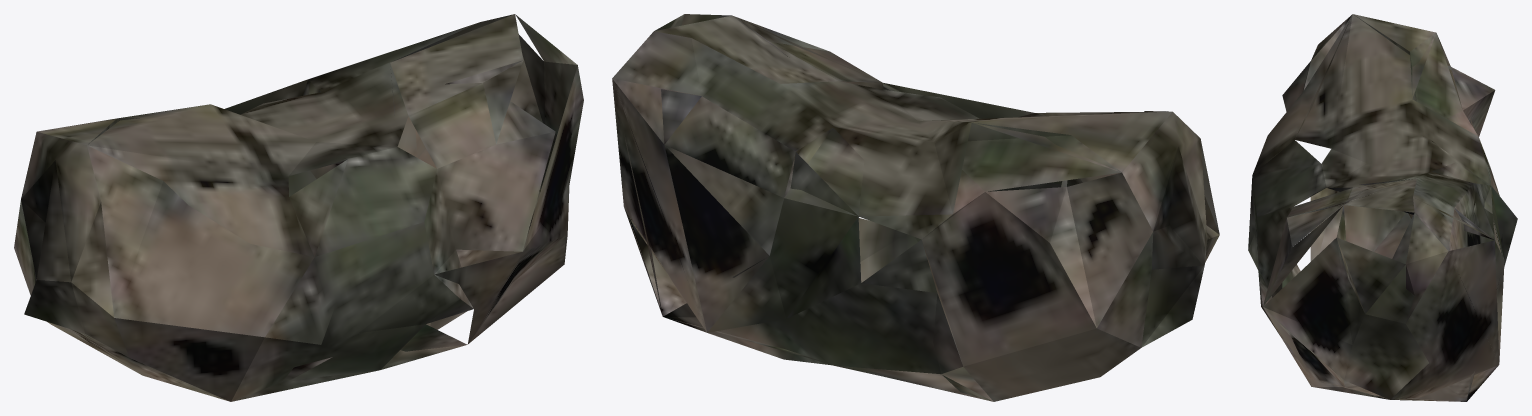
The model's file is sandbags_1146231213_lod1.glb.
3 views of the same model, side by side, from view 1: azimuth 30°, elevation 25°; view 2: azimuth 150°, elevation 25°; view 3: azimuth 270°, elevation 25° (orthographic). The views are drawn at different scales.
Bounding box in the file's own units: 2.53 × 1.28 × 1.29.
Materials: 1 (1 with a texture image).
